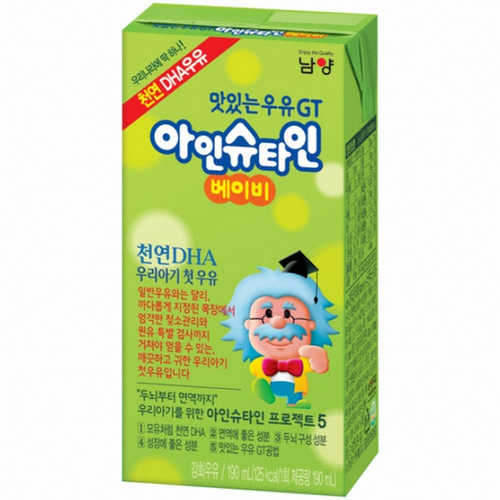milk: (121, 3, 379, 498)
